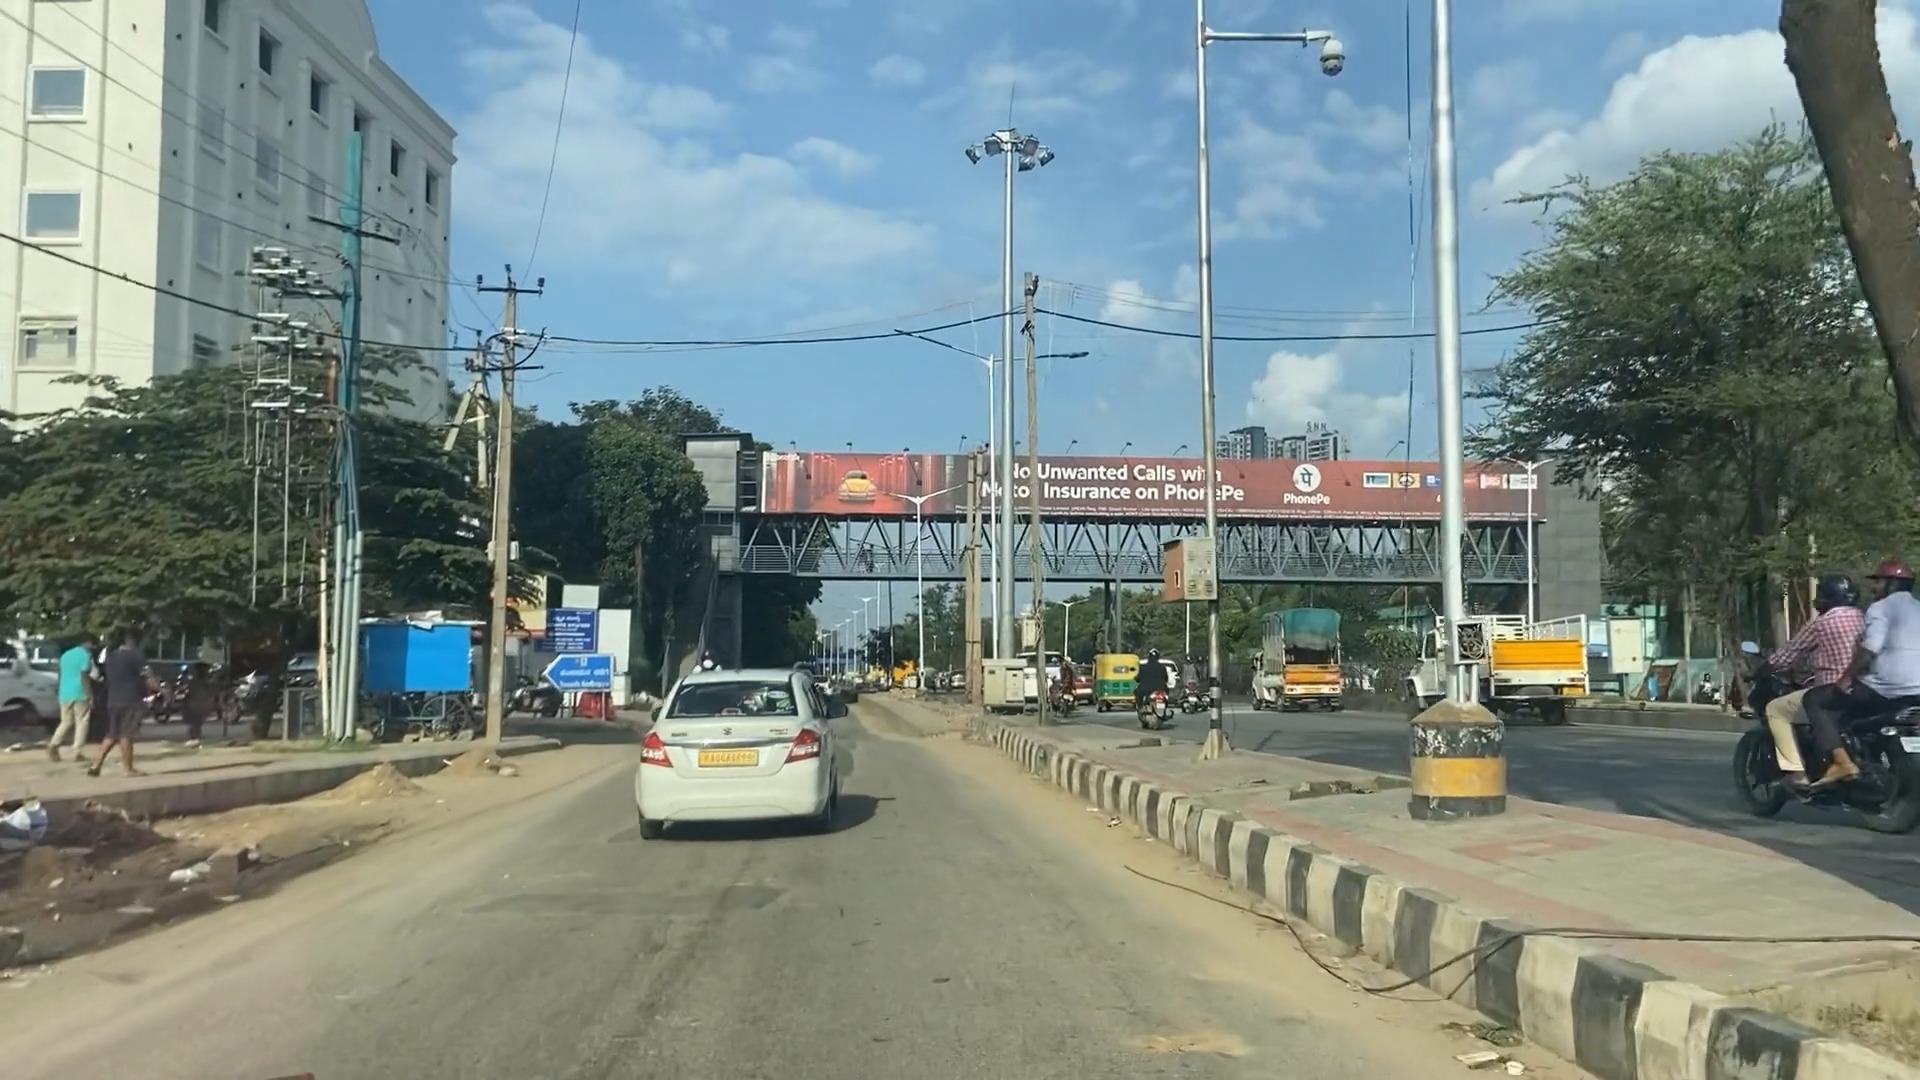LMV: (651, 663, 829, 839)
